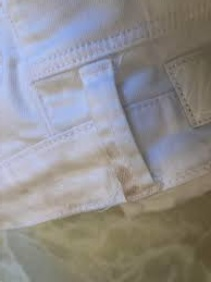earth: (49, 159, 83, 179), (116, 164, 137, 193), (92, 143, 116, 163), (9, 181, 30, 196)
